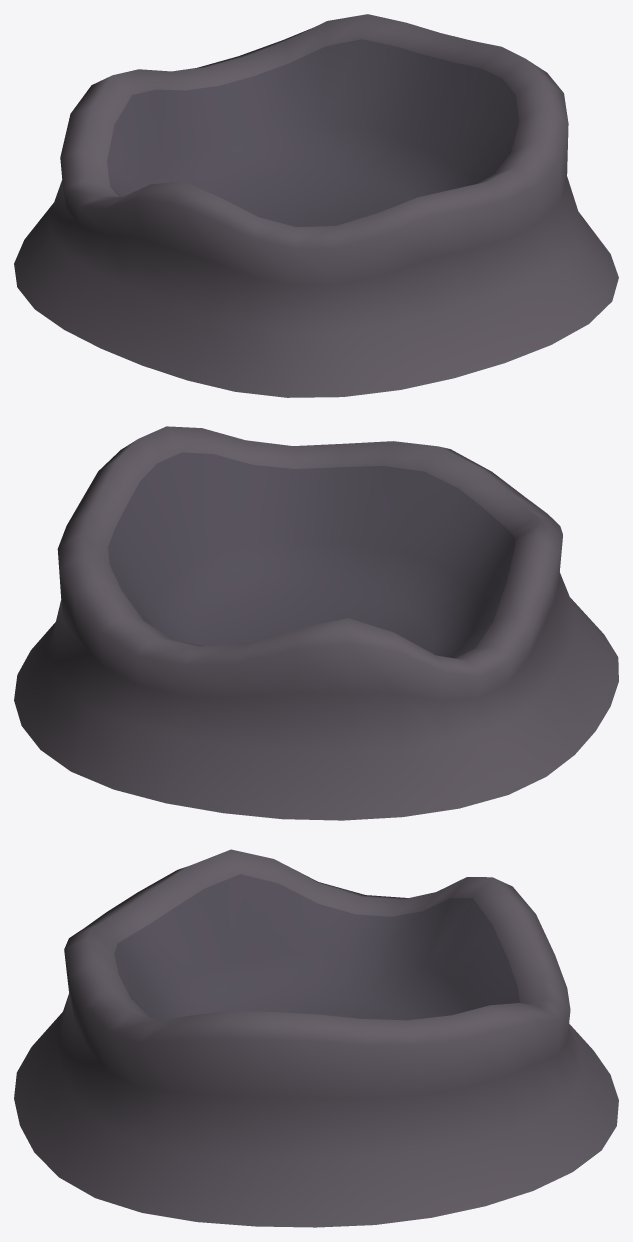
File: Crater_2.fbx
3 renders of one model, top to bottom at view 1: azimuth 30°, elevation 25°; view 2: azimuth 150°, elevation 25°; view 3: azimuth 270°, elevation 25°, orthographic. The views are drawn at different scales.
Visible parts, largest first — view 1: Crater_2; view 2: Crater_2; view 3: Crater_2.
Part boxes in pixels (x1,y1,x2,y2): Crater_2: (14,14,618,397); Crater_2: (14,426,618,820); Crater_2: (14,849,618,1227).
Bounding box in the file's own units: 14.25 × 4.9 × 14.46.
